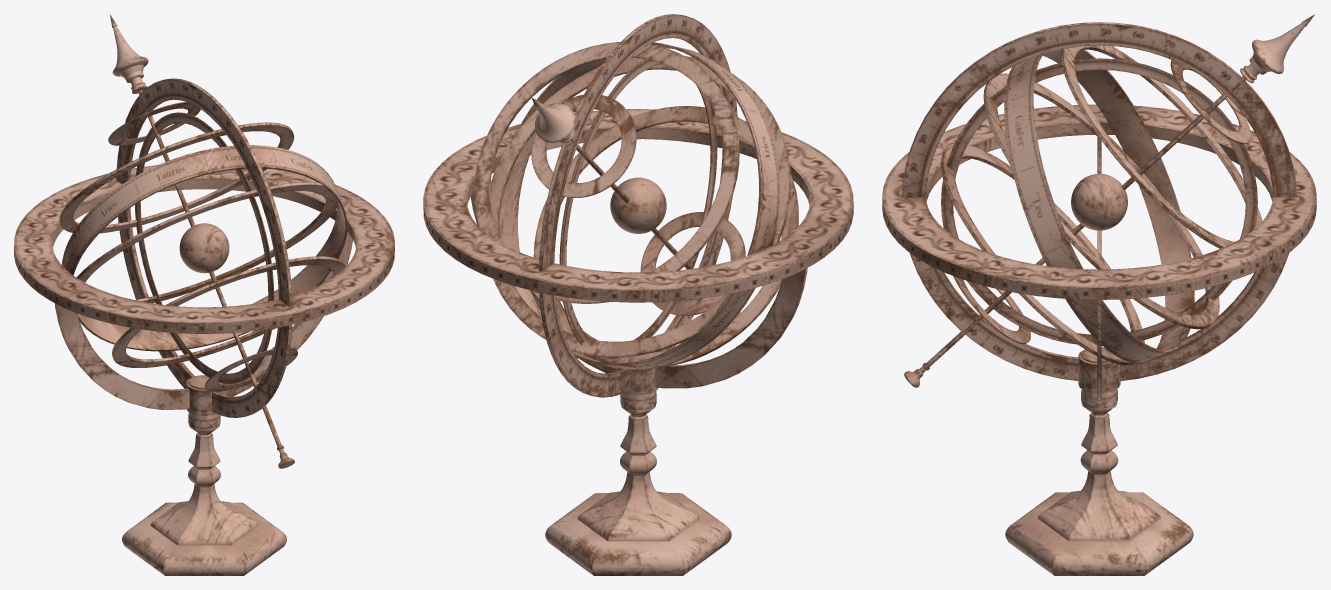
Rendered from mdl_hub_armillarysphere.gltf.
3 renders of one model, left to right at view 1: azimuth 30°, elevation 25°; view 2: azimuth 150°, elevation 25°; view 3: azimuth 270°, elevation 25°, orthographic. The views are drawn at different scales.
Parts seen in each view (by area): view 1: Lathe_2; view 2: Lathe_2; view 3: Lathe_2.
Part boxes in pixels (bbox=[...]): Lathe_2: bbox=[14, 14, 394, 575]; Lathe_2: bbox=[423, 14, 853, 575]; Lathe_2: bbox=[882, 14, 1316, 575].
Bounding box in the file's own units: 0.3589 × 0.4822 × 0.3589.
Materials: 1 (1 with a texture image).
